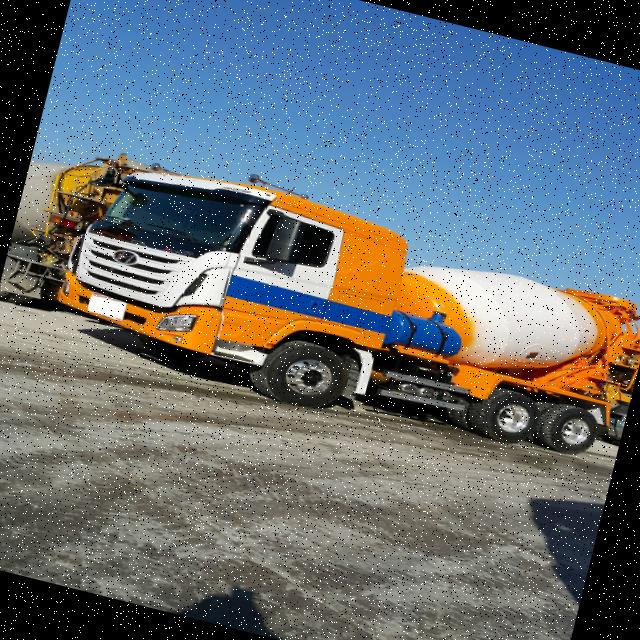Mixer Truck: (45, 142, 640, 484), (0, 135, 173, 335)
